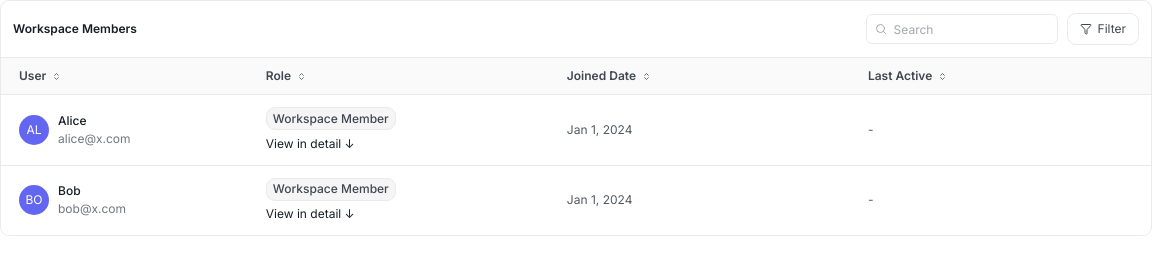
Test: MembersTable › Search › should filter members by name when search query is entered
Type "Alice" into the field with placeholder "Search" at (962, 29), box [866, 14, 1058, 44]
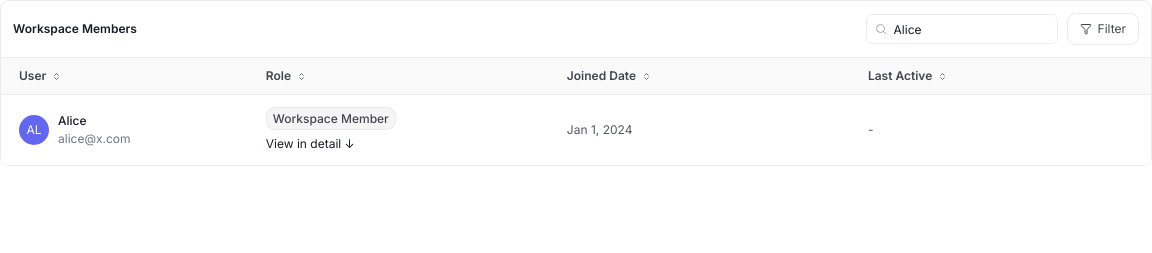
Expected: the text "Alice" is shown, [58, 113, 86, 128]
Expected: the text "Bob" is gone
